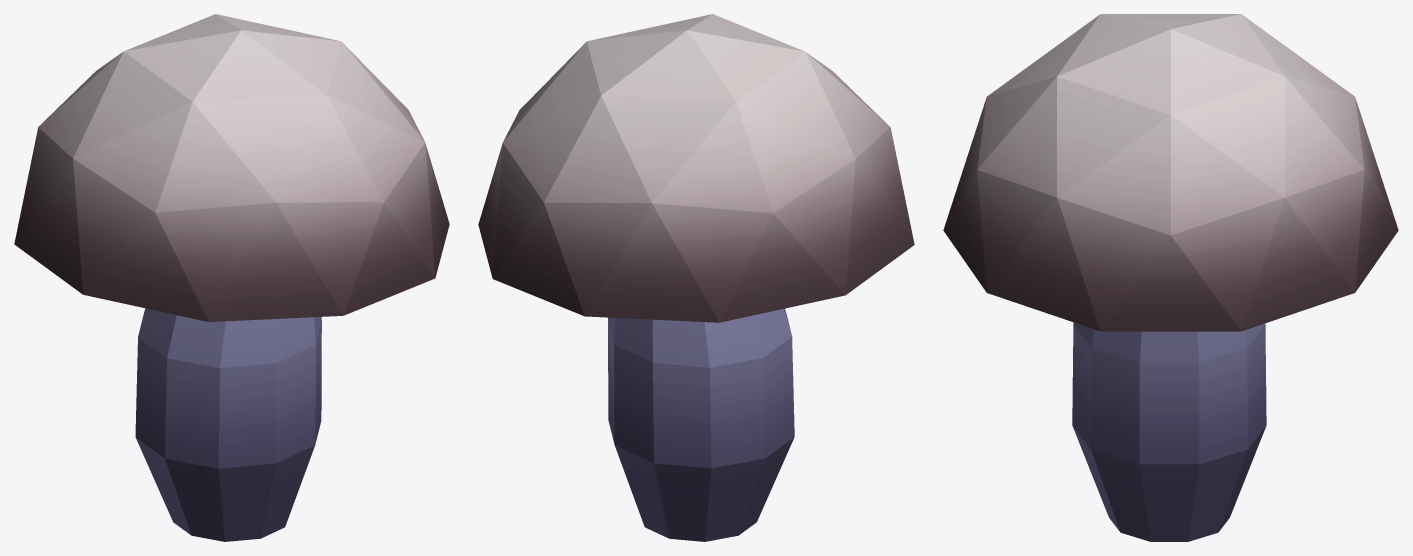
File: pack01_foliage_32.fbx
3 views of the same model, side by side, from view 1: azimuth 30°, elevation 25°; view 2: azimuth 150°, elevation 25°; view 3: azimuth 270°, elevation 25° (orthographic). The views are drawn at different scales.
Visible parts, largest first — view 1: Mushroom_big_brown; view 2: Mushroom_big_brown; view 3: Mushroom_big_brown.
Part boxes in pixels (x1,y1,x2,y2): Mushroom_big_brown: (14, 14, 449, 541); Mushroom_big_brown: (478, 14, 914, 541); Mushroom_big_brown: (943, 14, 1398, 541).
Size of the model in its own units: 40.61 by 51.18 by 42.75.
1 material, 1 textured.
